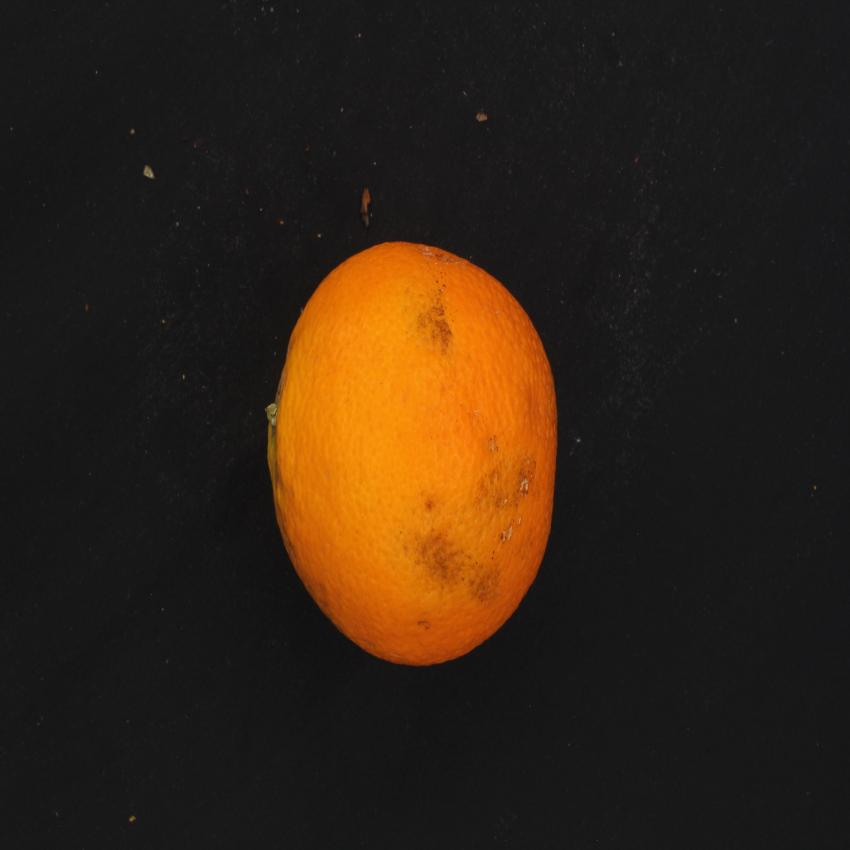Buen estado: (254, 226, 572, 679)
